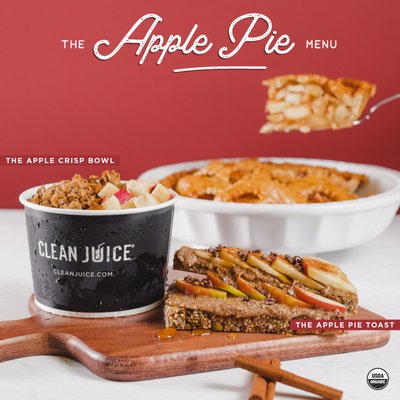pizza: (20, 175, 177, 323)
sushi: (157, 156, 400, 254)
